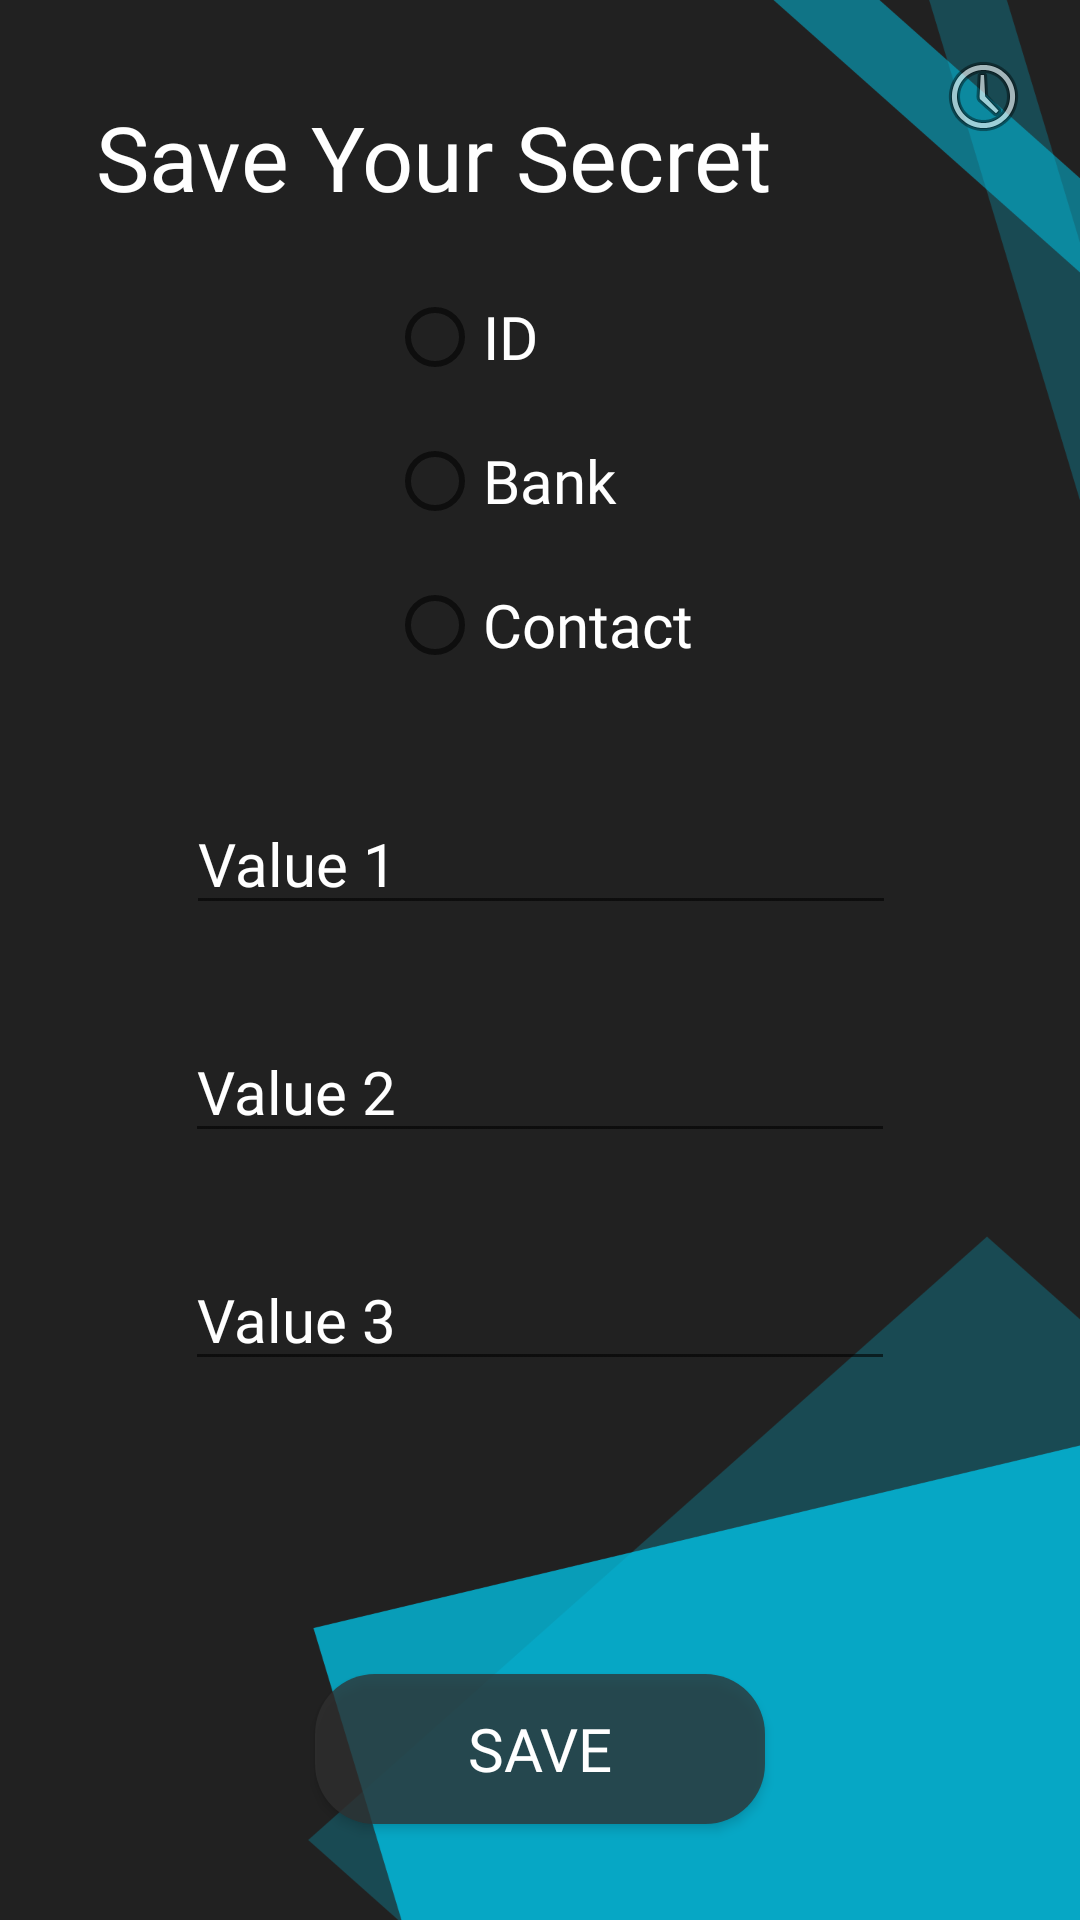

Icon click points for this 1080w x 1920h phone screenshot, format (x,y):
recent history: (984,96)
